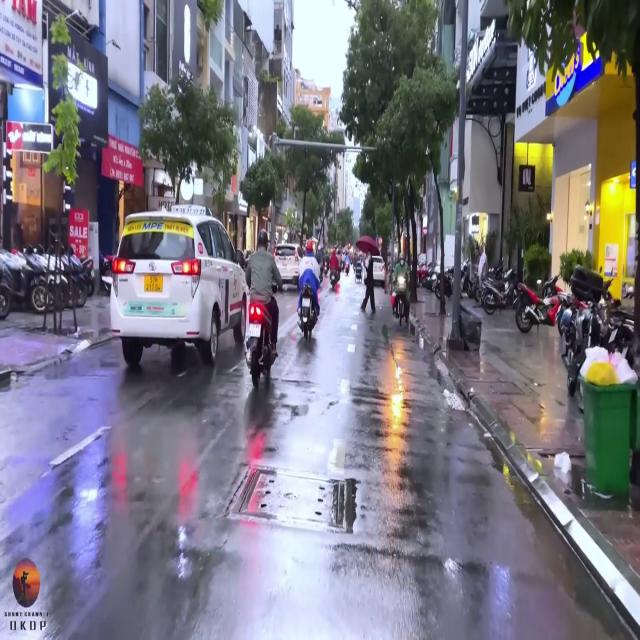bien_vang: (143, 271, 163, 292)
